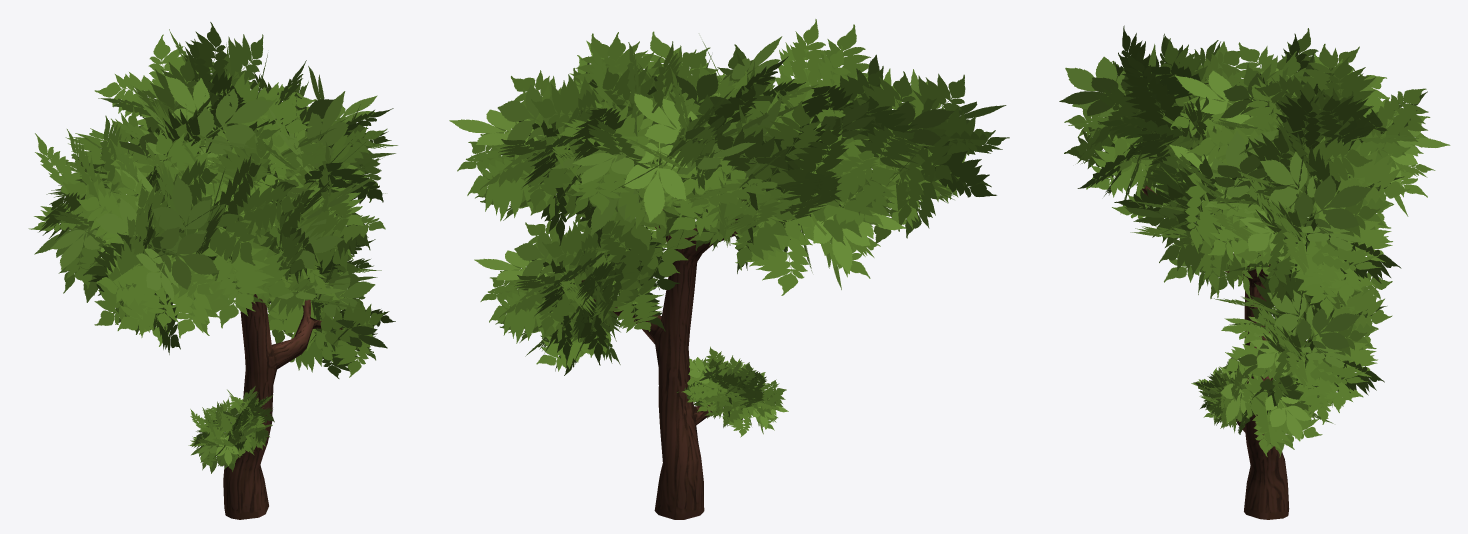
Rendered from SM_Common_Tree_06.glb.
3 renders of one model, left to right at view 1: azimuth 30°, elevation 25°; view 2: azimuth 150°, elevation 25°; view 3: azimuth 270°, elevation 25°, orthographic. The views are drawn at different scales.
Parts seen in each view (by area): view 1: SM_Common_Tree_06; view 2: SM_Common_Tree_06; view 3: SM_Common_Tree_06.
Boxes of the visible parts, bbox=[...] form: SM_Common_Tree_06: bbox=[28, 22, 397, 519]; SM_Common_Tree_06: bbox=[449, 19, 1009, 519]; SM_Common_Tree_06: bbox=[1059, 25, 1450, 519].
Size of the model in its own units: 7.14 by 7.57 by 6.01.
2 materials, 2 textured.
